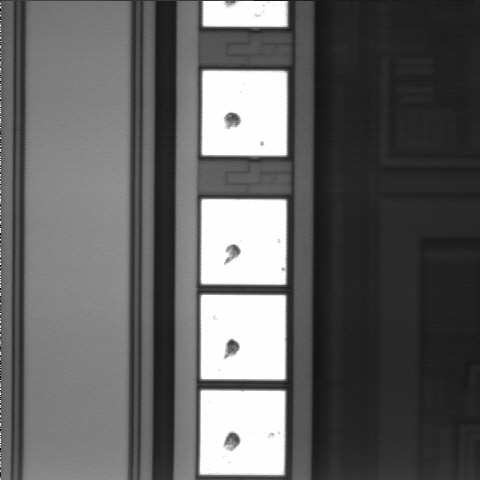pad: (201, 199, 286, 285), (202, 71, 287, 156), (200, 390, 285, 475), (201, 295, 286, 379)
